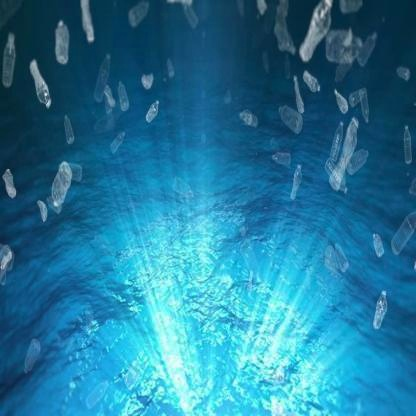pbottle: (300, 3, 334, 56), (333, 123, 353, 203), (241, 229, 262, 294), (47, 160, 72, 214), (49, 14, 74, 66), (2, 31, 20, 102), (391, 207, 416, 257), (30, 55, 52, 111), (274, 1, 296, 54), (167, 169, 202, 201), (1, 164, 23, 214), (323, 158, 349, 198), (18, 335, 42, 378), (353, 32, 380, 69), (234, 100, 263, 132), (91, 56, 111, 102), (123, 1, 156, 28), (87, 378, 112, 412), (77, 3, 98, 43), (2, 232, 15, 294), (371, 288, 388, 334), (276, 107, 303, 134), (286, 160, 302, 204), (269, 138, 296, 164), (321, 236, 335, 283), (290, 75, 307, 113), (304, 70, 326, 99), (57, 155, 83, 179), (368, 230, 388, 259), (335, 234, 347, 282), (331, 122, 345, 160), (180, 4, 201, 28), (34, 191, 48, 226), (140, 66, 154, 100), (62, 117, 78, 145), (403, 126, 413, 168), (331, 86, 349, 109), (354, 148, 370, 172), (115, 84, 132, 106), (146, 104, 164, 123), (111, 132, 127, 152), (396, 62, 409, 83), (254, 2, 266, 22)
